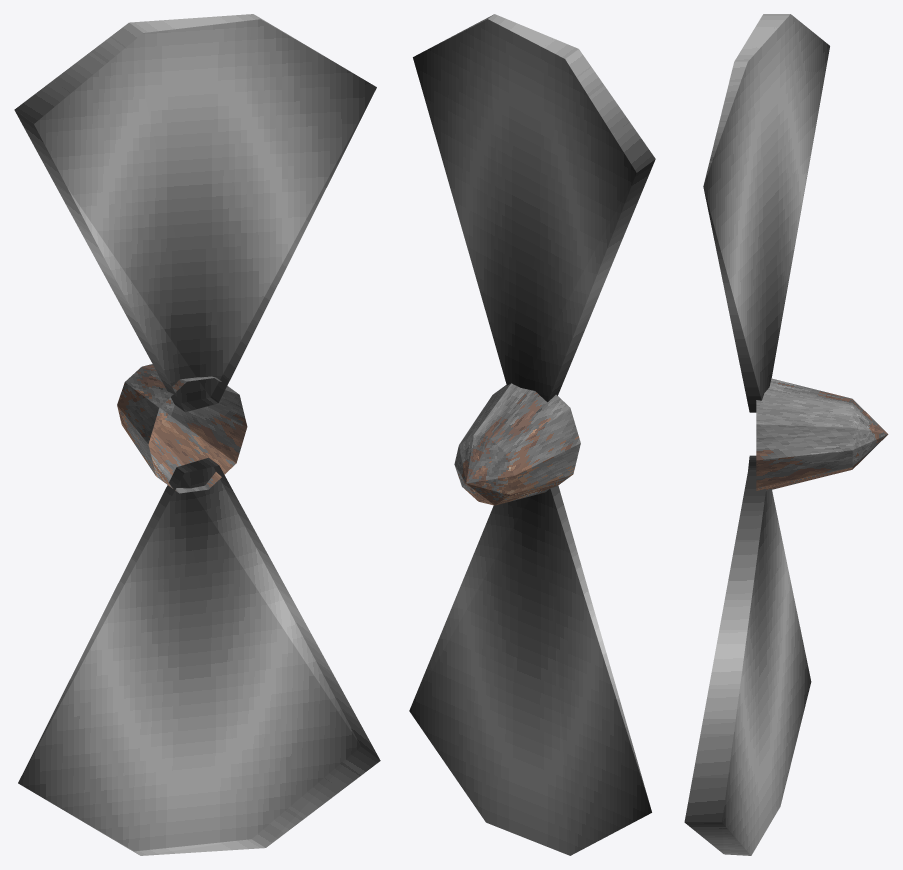
Rendered from blade.obj.
The picture shows the model from 3 angles, left to right: view 1: azimuth 30°, elevation 25°; view 2: azimuth 150°, elevation 25°; view 3: azimuth 270°, elevation 25°; orthographic projection. The views are drawn at different scales.
Size of the model in its own units: 0.3657 by 0.9534 by 0.222.
2 materials, 2 textured.
